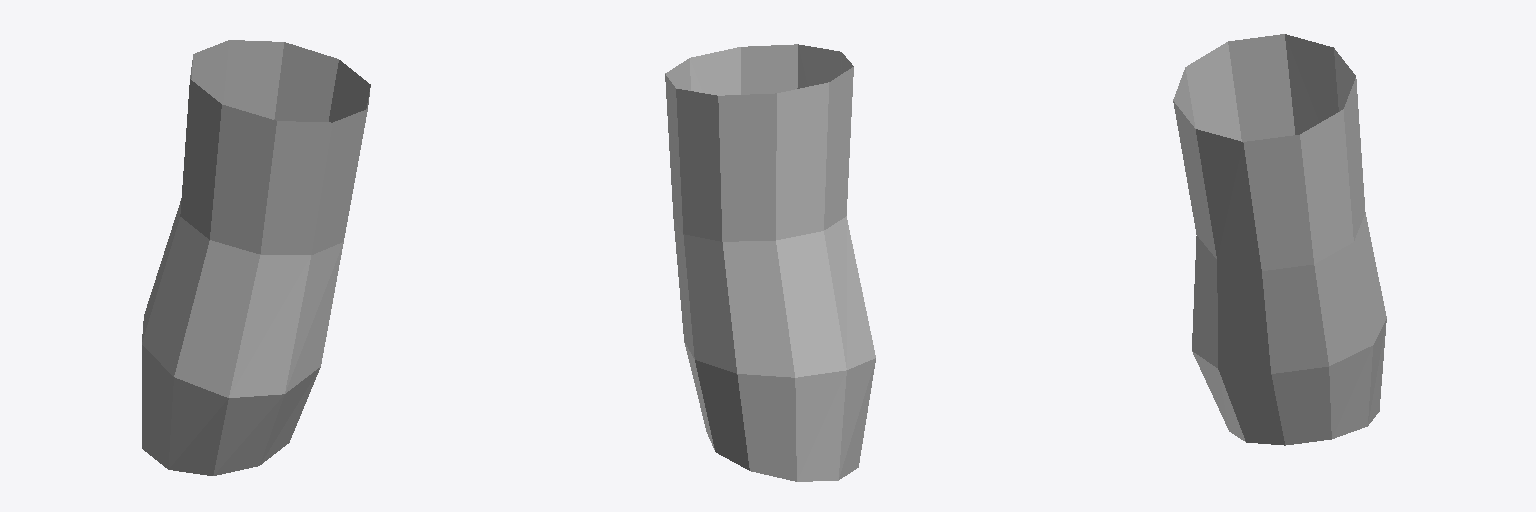
File: rightleg2.obj
3 views of the same model, side by side, from view 1: azimuth 30°, elevation 25°; view 2: azimuth 150°, elevation 25°; view 3: azimuth 270°, elevation 25° (orthographic).
Parts seen in each view (by area): view 1: body; view 2: body; view 3: body.
Part boxes in pixels (left/top/right/bottom): body: left=142, top=40, right=370, bottom=475; body: left=665, top=44, right=875, bottom=481; body: left=1173, top=34, right=1386, bottom=445.
Bounding box in the file's own units: 16.36 × 30.89 × 15.67.